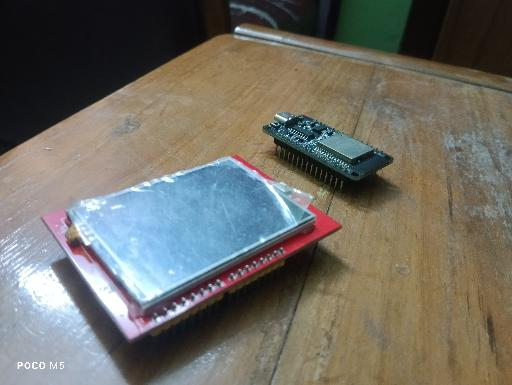Display: (39, 154, 343, 347)
Esp32: (261, 110, 395, 191)
